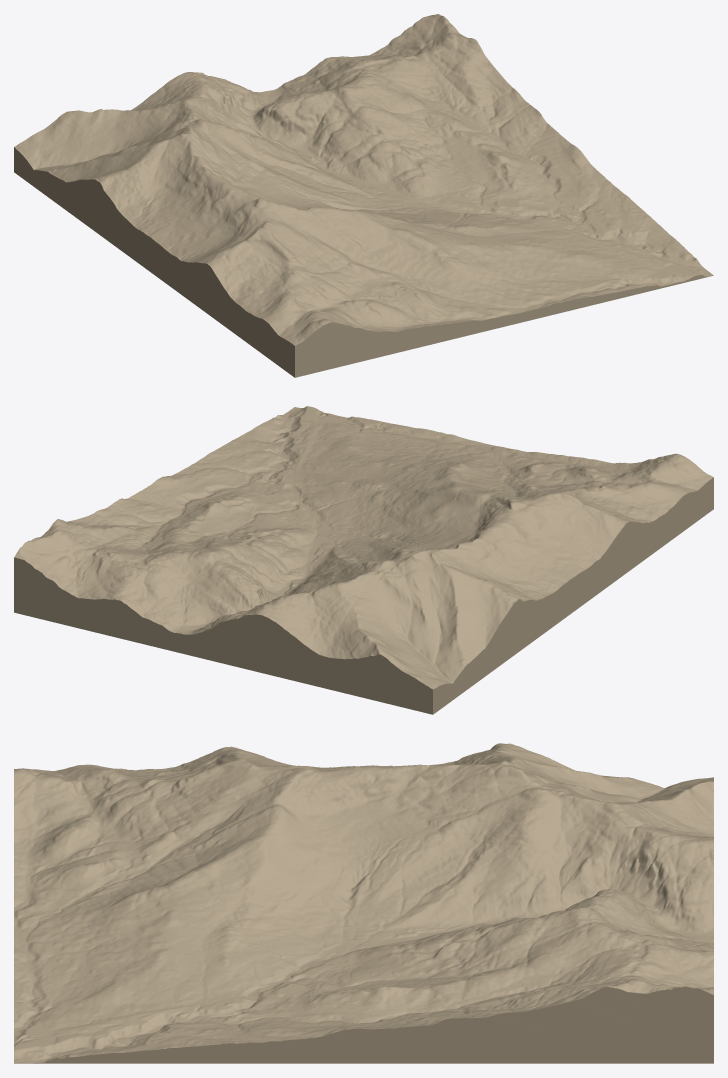
Rendered from stowe.glb.
3 renders of one model, top to bottom at view 1: azimuth 30°, elevation 25°; view 2: azimuth 150°, elevation 25°; view 3: azimuth 270°, elevation 25°, orthographic. The views are drawn at different scales.
Parts seen in each view (by area): view 1: stowe model; view 2: stowe model; view 3: stowe model.
Boxes of the visible parts, x1,y1,x2,y2 form: stowe model: (14, 14, 713, 377); stowe model: (14, 406, 713, 714); stowe model: (14, 743, 713, 1063).
Size of the model in its own units: 131 by 23.89 by 152.
